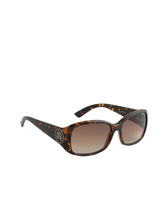glasses: (14, 102, 156, 155)
